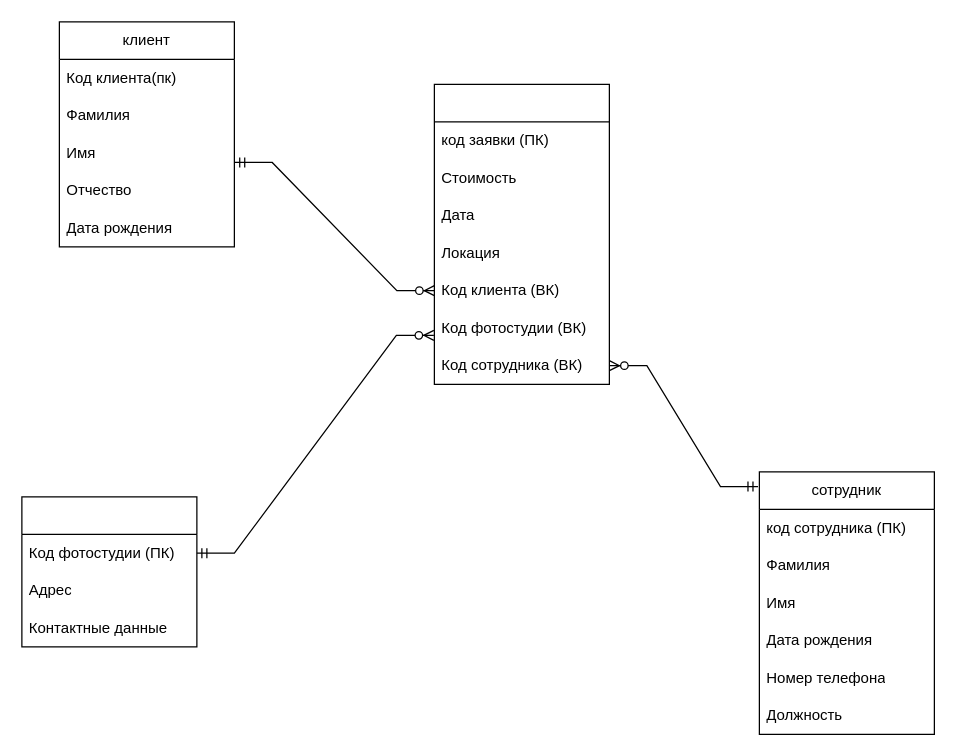
The diagram is 956 pixels wide and 756 high, and some of its shapes have lost their labels. Here are the shapes that lost their labels. From the top down, the box of each, then its label:
(433, 83, 609, 384): Заявка
(21, 496, 197, 647): Фотостудия
